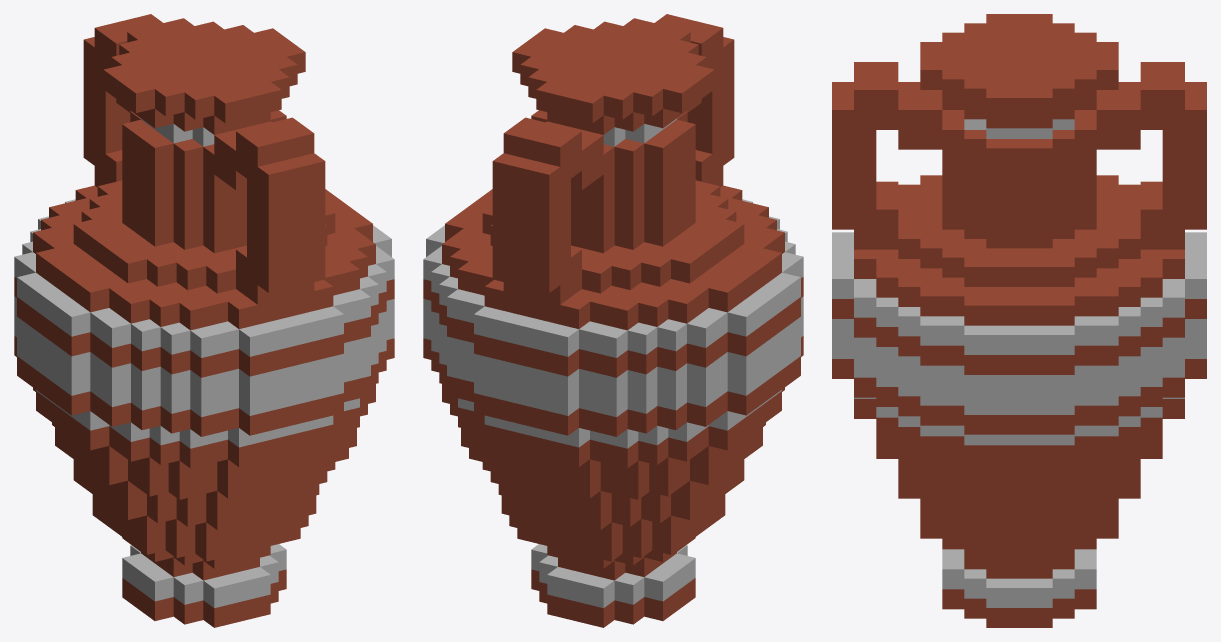
Rendered from cruche.obj.
3 renders of one model, left to right at view 1: azimuth 30°, elevation 25°; view 2: azimuth 150°, elevation 25°; view 3: azimuth 270°, elevation 25°, orthographic.
Size of the model in its own units: 1.7 by 2.7 by 1.7.
Materials: 1 (1 with a texture image).
